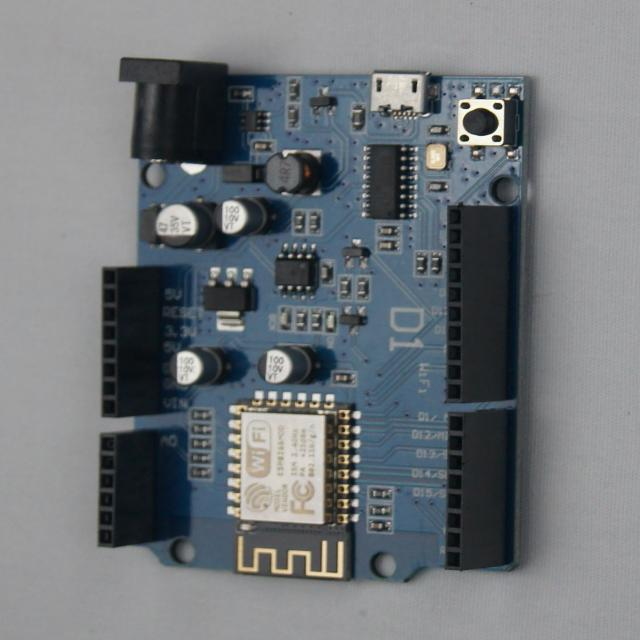Arduino Uno WiFi Shield: (99, 59, 530, 582)
